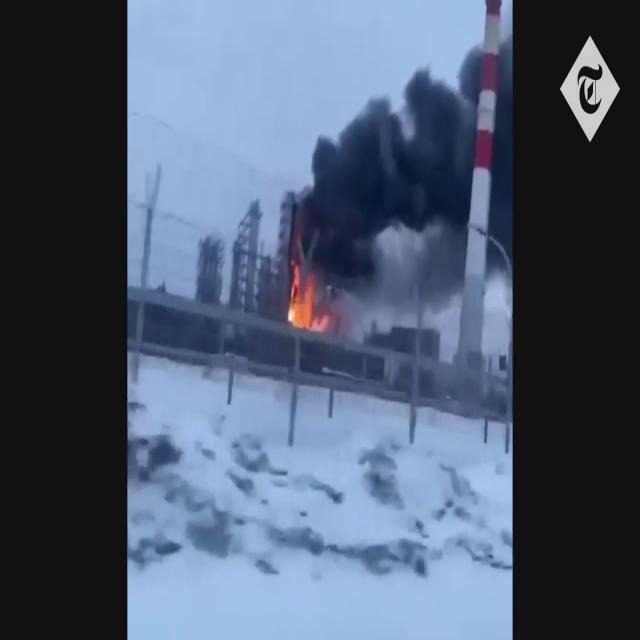Fire: (284, 255, 326, 333)
Smoke: (285, 56, 484, 310)
